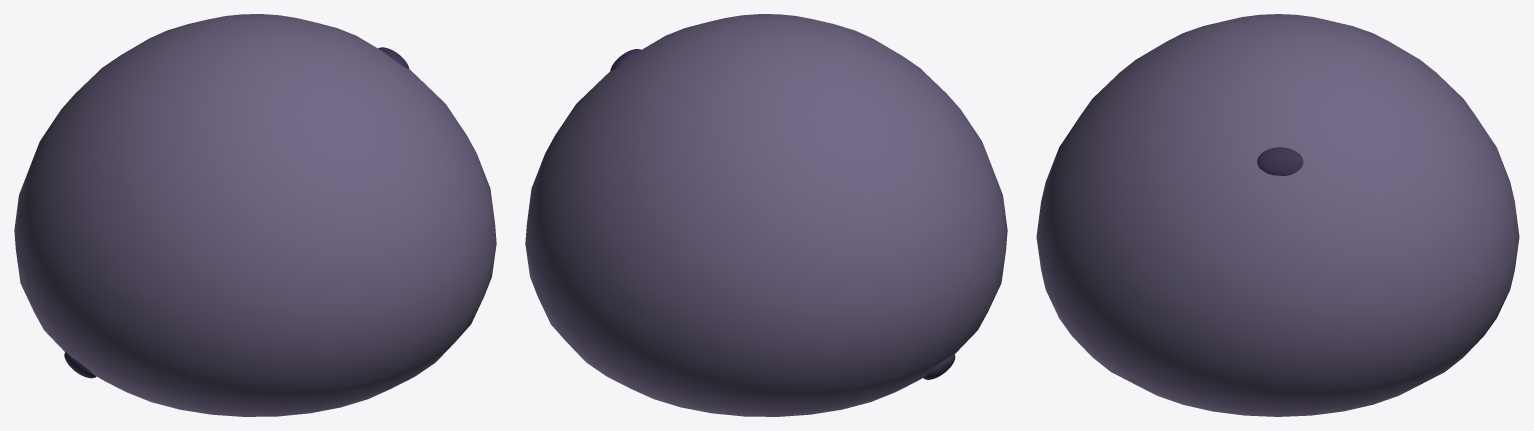
Rendered from mini_voister_3.fbx.
The picture shows the model from 3 angles, left to right: view 1: azimuth 30°, elevation 25°; view 2: azimuth 150°, elevation 25°; view 3: azimuth 270°, elevation 25°; orthographic projection.
Visible parts, largest first — view 1: skin2; view 2: skin2; view 3: skin2, bouton.
Part boxes in pixels (x1,y1,x2,y2): skin2: [14, 14, 496, 416]; skin2: [525, 14, 1007, 416]; skin2: [1036, 14, 1519, 416]; bouton: [1257, 147, 1303, 175].
Size of the model in its own units: 144 by 111 by 144.
